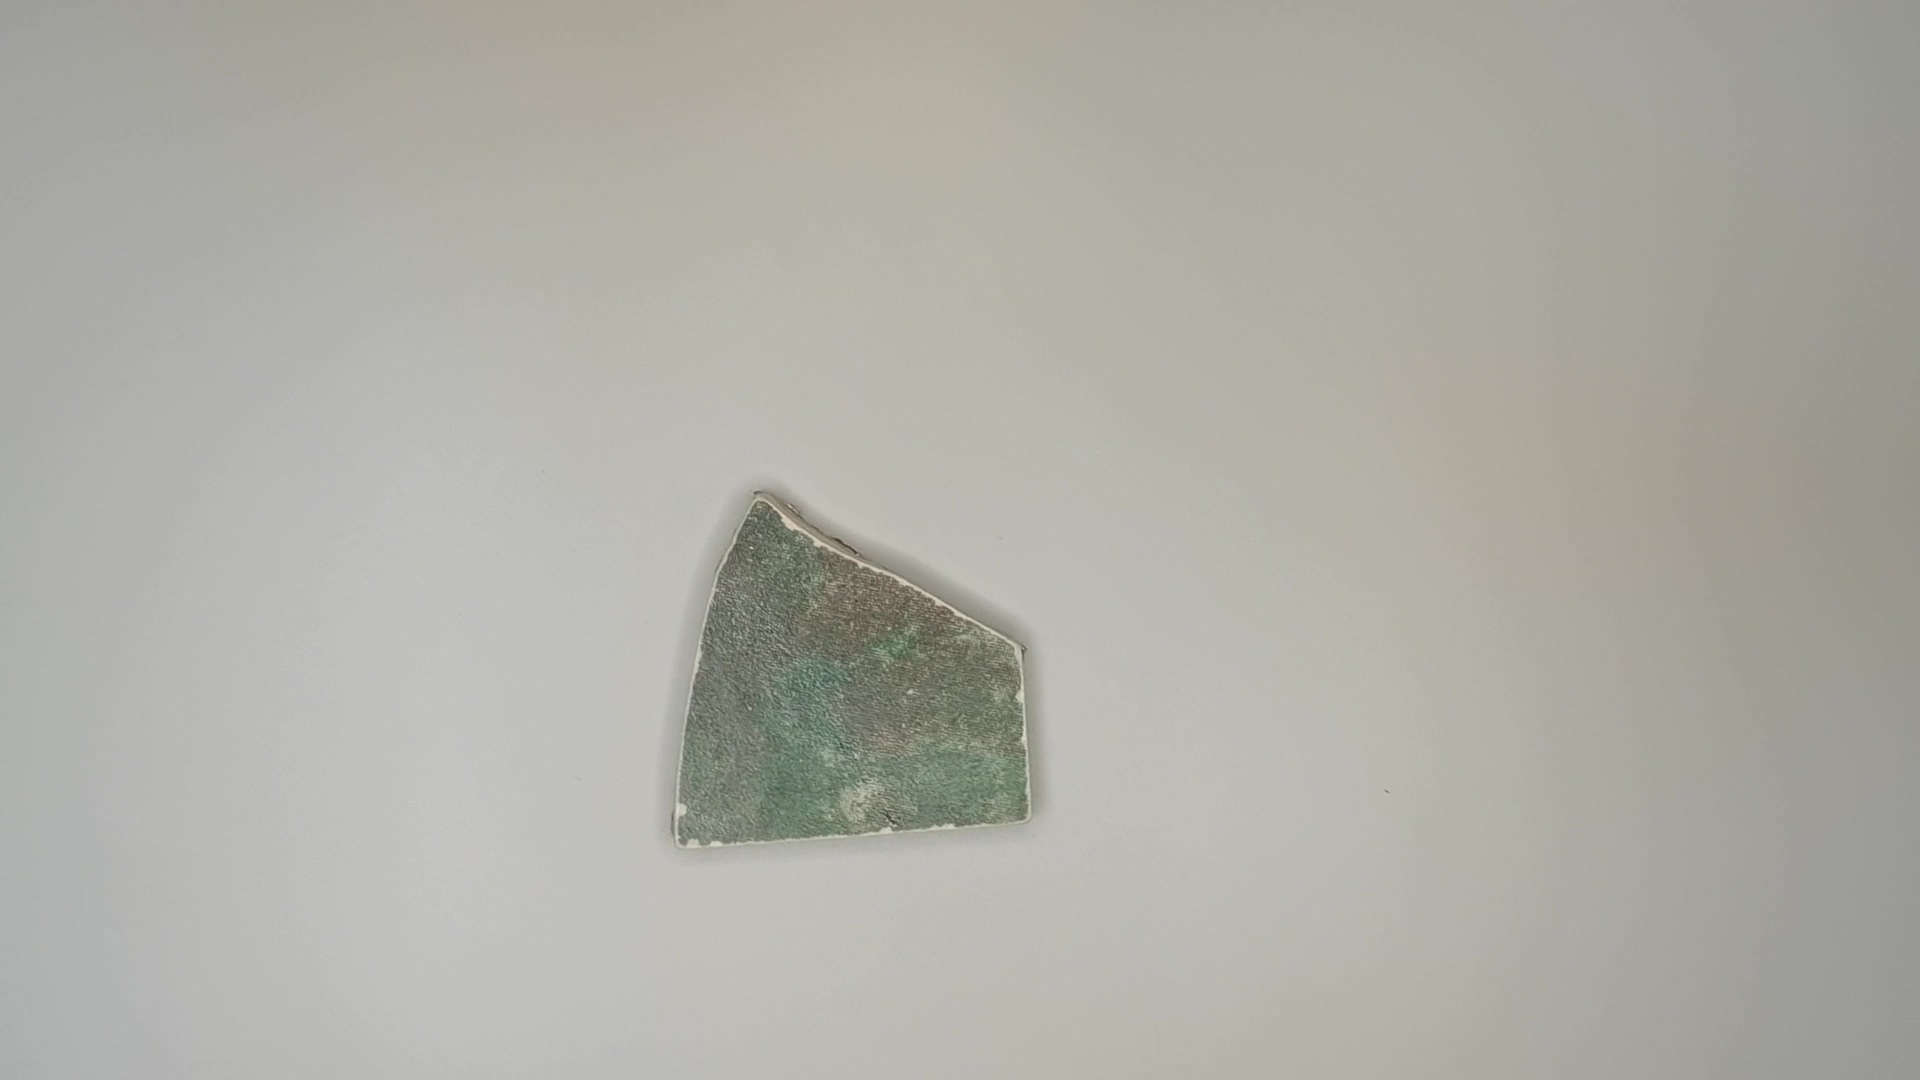ceramic: (669, 487, 1040, 853)
